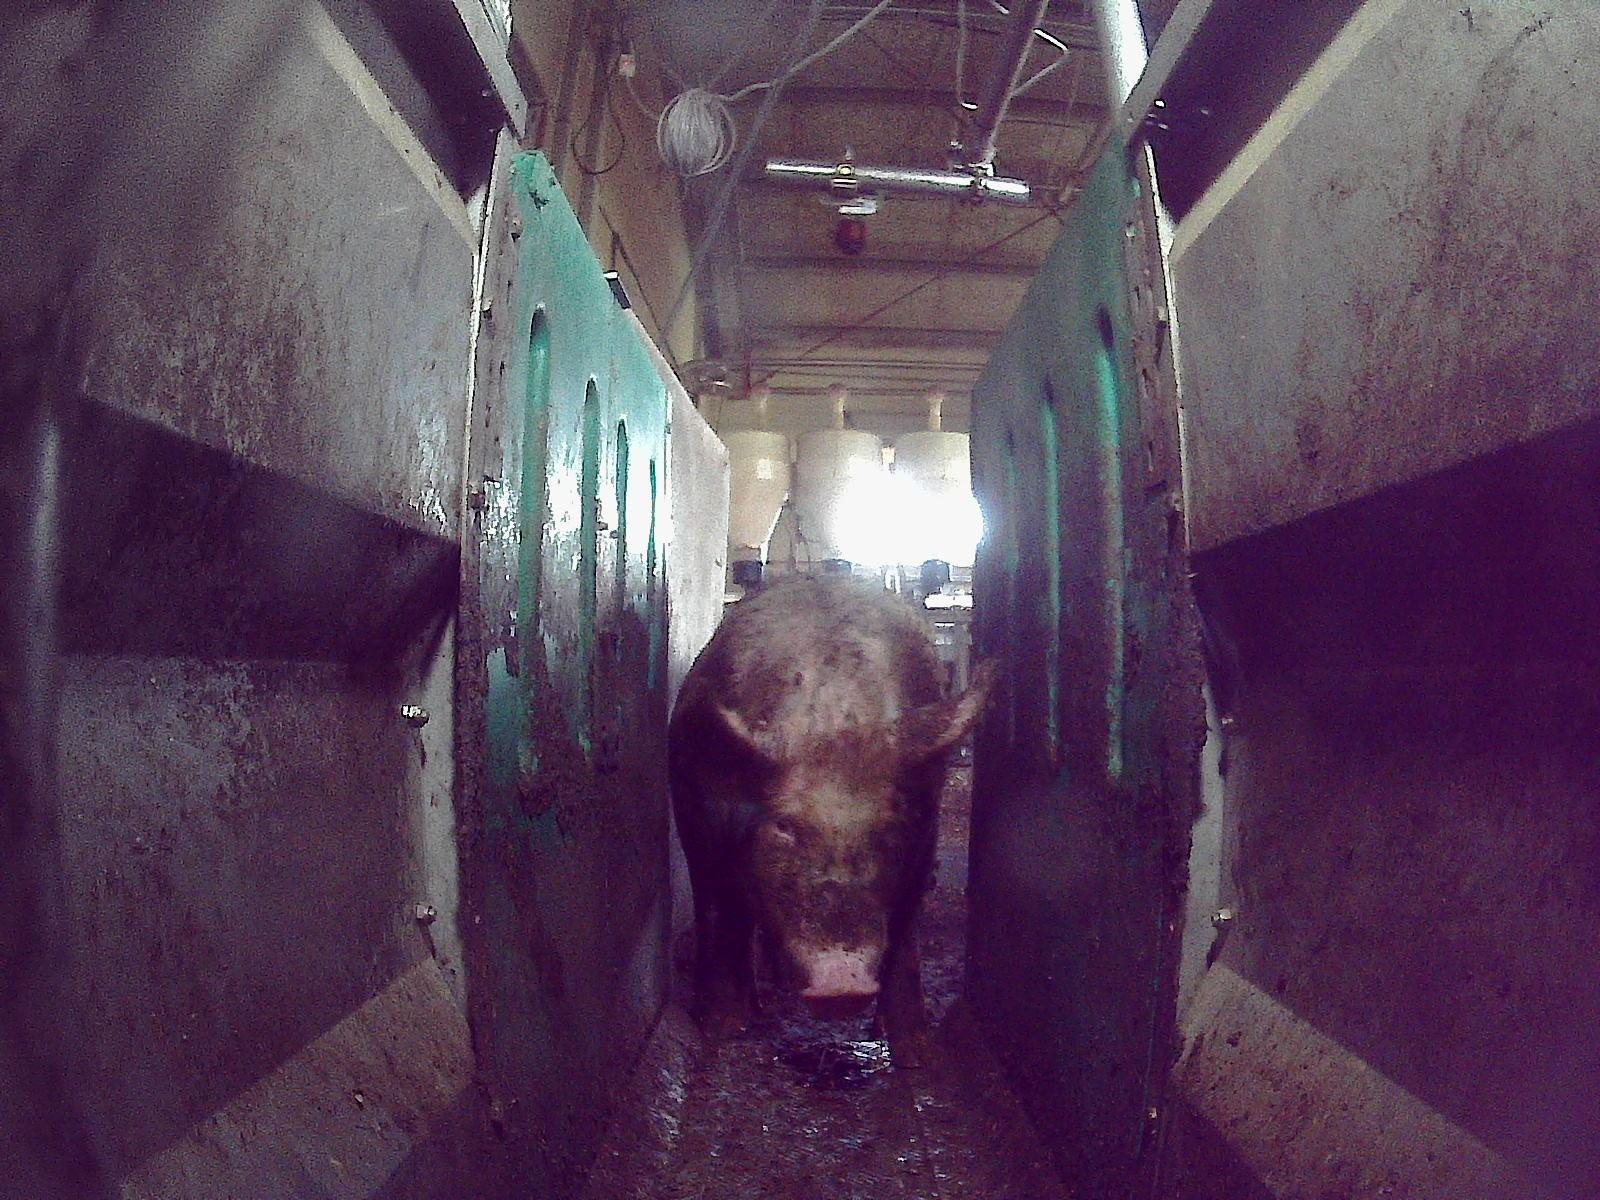Face: (733, 739, 910, 1016)
